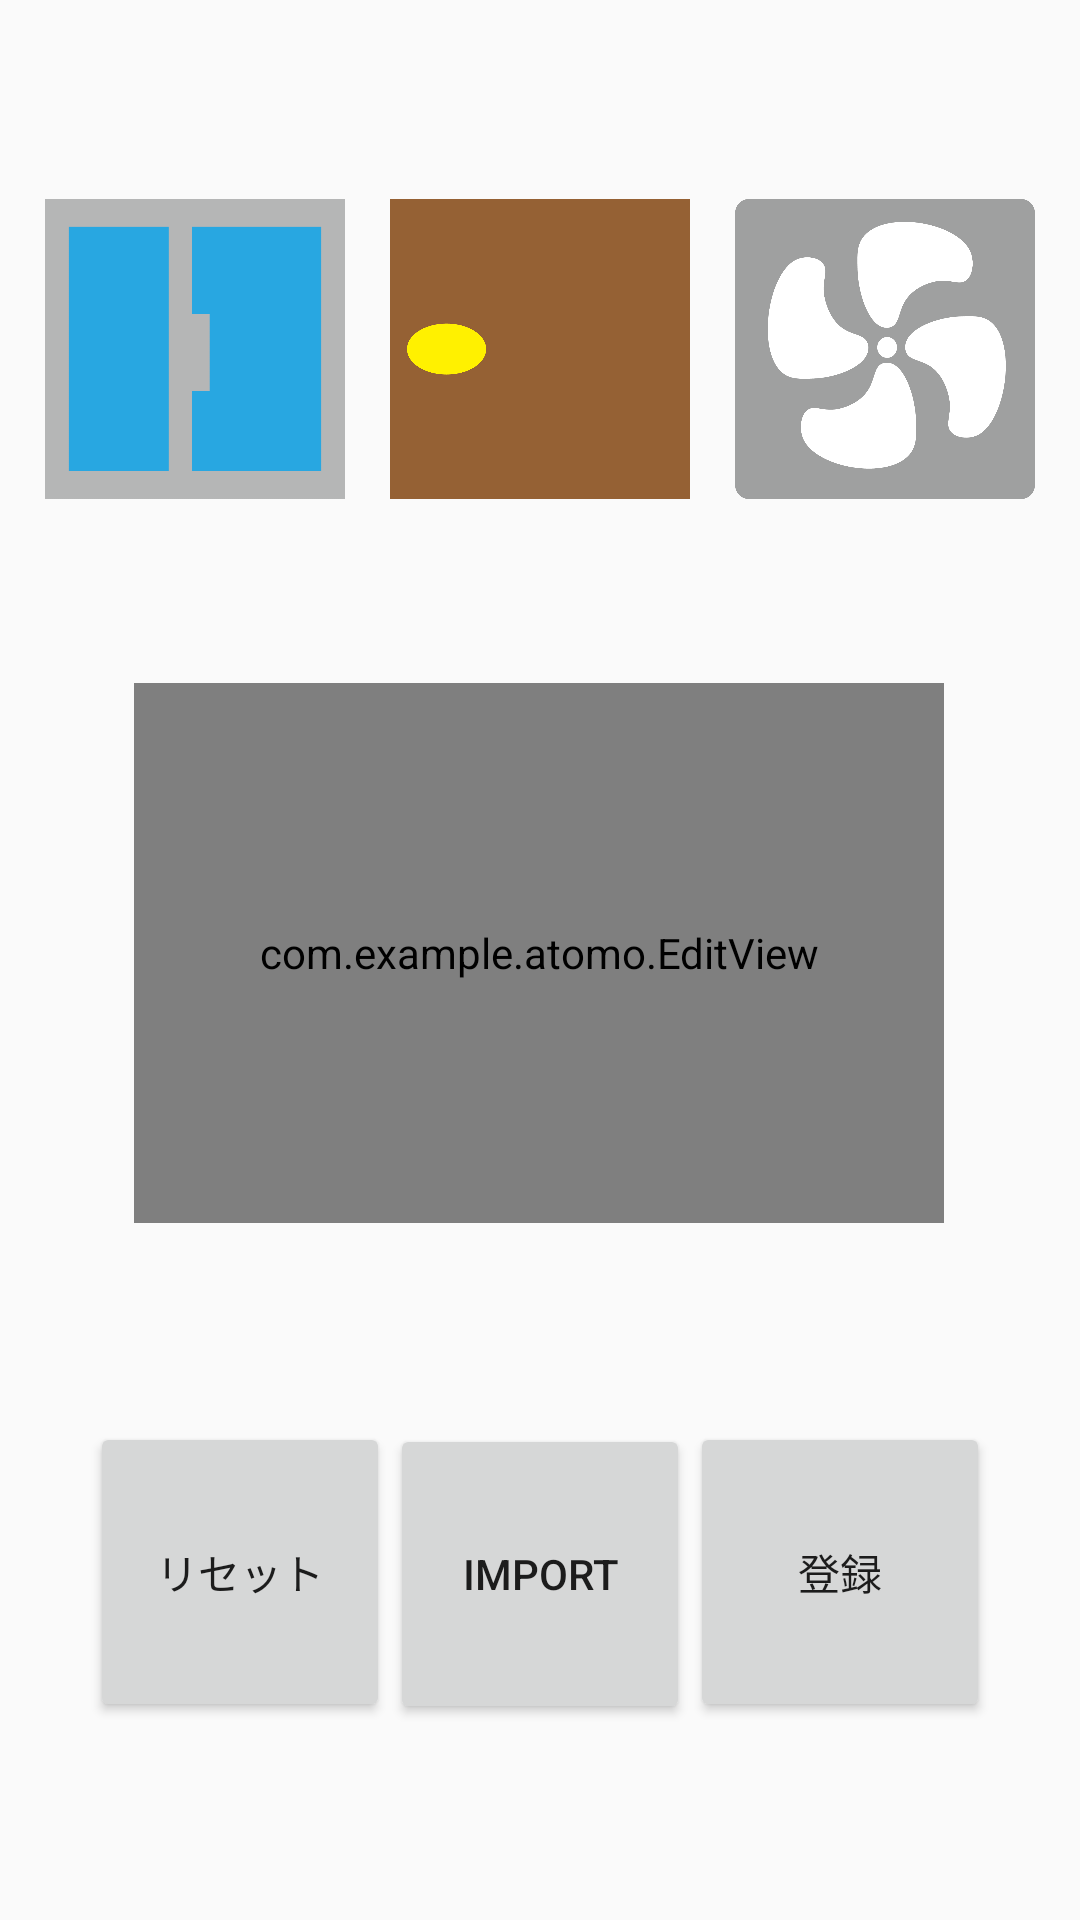

Point at icon controls on the screen. Image size 1080px x 1920px, points as (x,y).
door: (540,349)
fan: (885,349)
window: (195,349)
